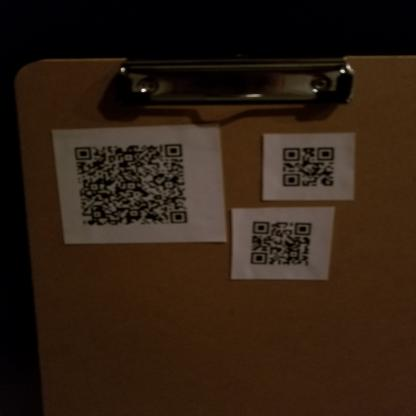qr: (69, 138, 195, 230), (249, 215, 314, 269), (277, 142, 338, 191)
